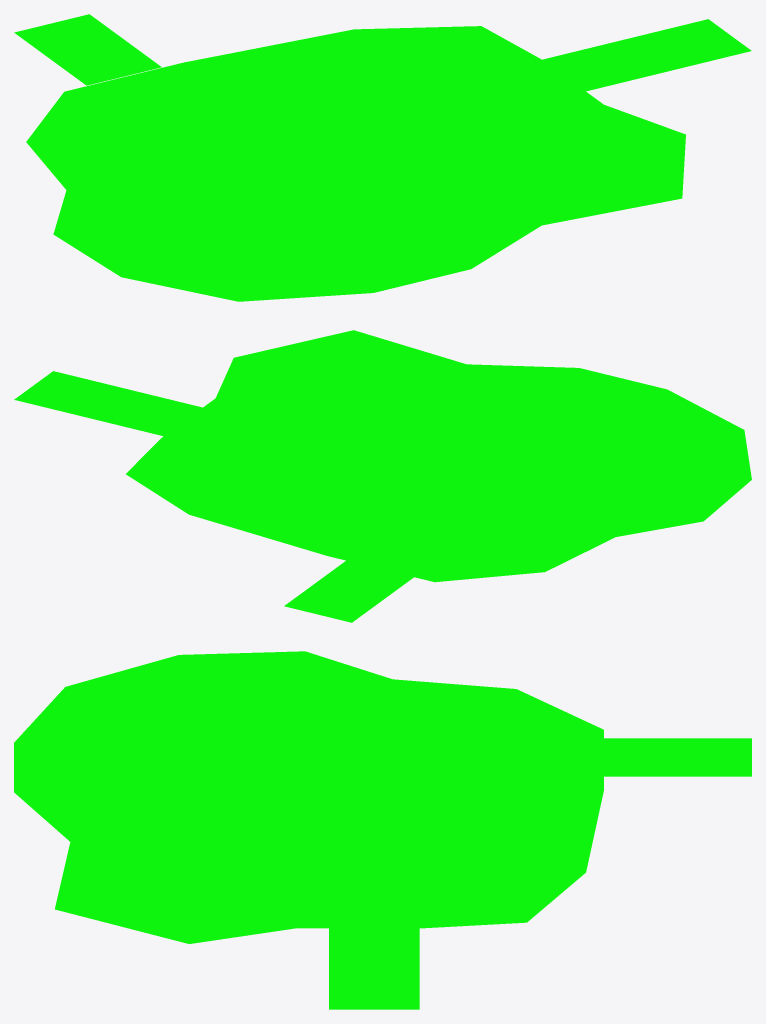
The model's file is s03a_lb1-floor.glb.
The picture shows the model from 3 angles, top to bottom: view 1: azimuth 30°, elevation 25°; view 2: azimuth 150°, elevation 25°; view 3: azimuth 270°, elevation 25°; orthographic projection. The views are drawn at different scales.
Visible parts, largest first — view 1: collision_floor-colonly; view 2: collision_floor-colonly; view 3: collision_floor-colonly.
Part boxes in pixels (x1=…): collision_floor-colonly: x1=14, y1=14, x2=751, y2=301; collision_floor-colonly: x1=14, y1=330, x2=751, y2=622; collision_floor-colonly: x1=14, y1=651, x2=751, y2=1009.
Size of the model in its own units: 56.44 by 0.3164 by 48.84.
